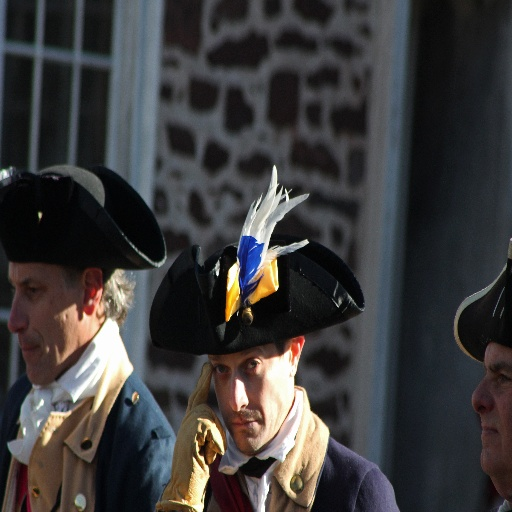hand: (175, 359, 226, 511)
